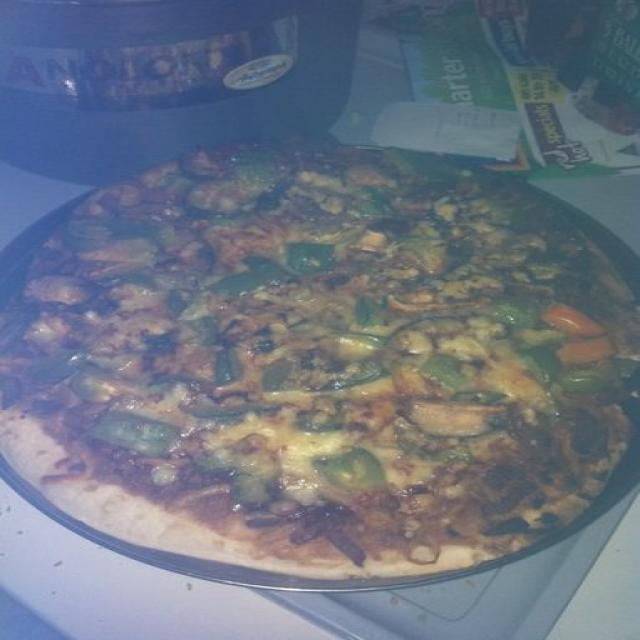Green Pepper: (95, 411, 178, 456), (315, 449, 389, 493), (209, 256, 293, 294), (211, 458, 267, 506), (309, 362, 389, 392), (474, 299, 536, 328), (286, 244, 336, 272), (192, 406, 280, 420), (74, 376, 116, 404), (392, 152, 440, 176), (62, 222, 105, 248), (422, 357, 463, 384), (238, 154, 270, 188), (450, 388, 508, 406), (334, 329, 387, 346), (530, 351, 556, 383), (359, 190, 392, 215), (266, 358, 290, 392), (358, 298, 384, 326), (215, 348, 235, 382), (166, 290, 191, 316), (116, 222, 156, 238), (492, 208, 522, 228), (565, 376, 600, 393), (159, 177, 189, 195), (195, 320, 215, 345), (212, 214, 246, 228)
Pizza: (0, 146, 640, 578)
Red Pepper: (545, 302, 608, 336), (562, 338, 615, 367)
